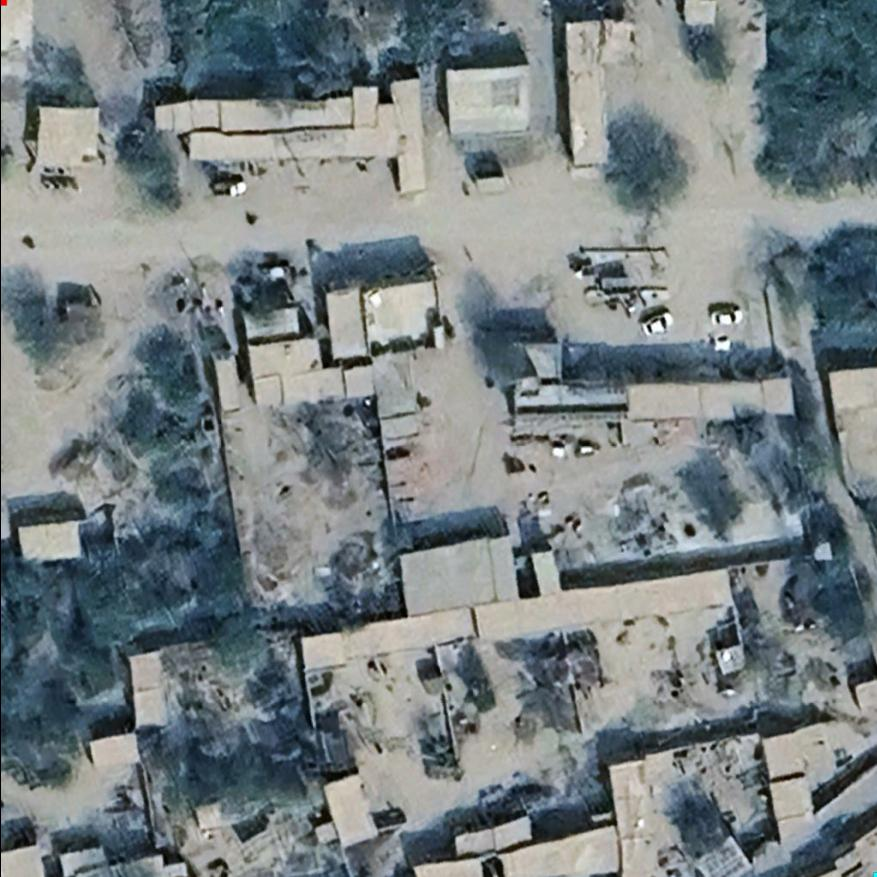Solarpanel: (698, 842, 747, 876)
